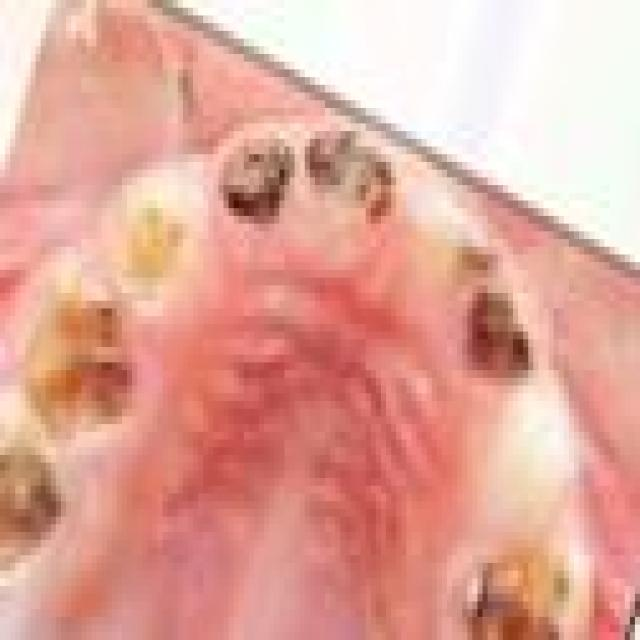caries: (23, 271, 142, 450), (440, 220, 540, 398), (451, 511, 583, 640), (0, 391, 78, 589), (303, 106, 392, 244), (114, 180, 198, 318), (217, 120, 303, 240)
